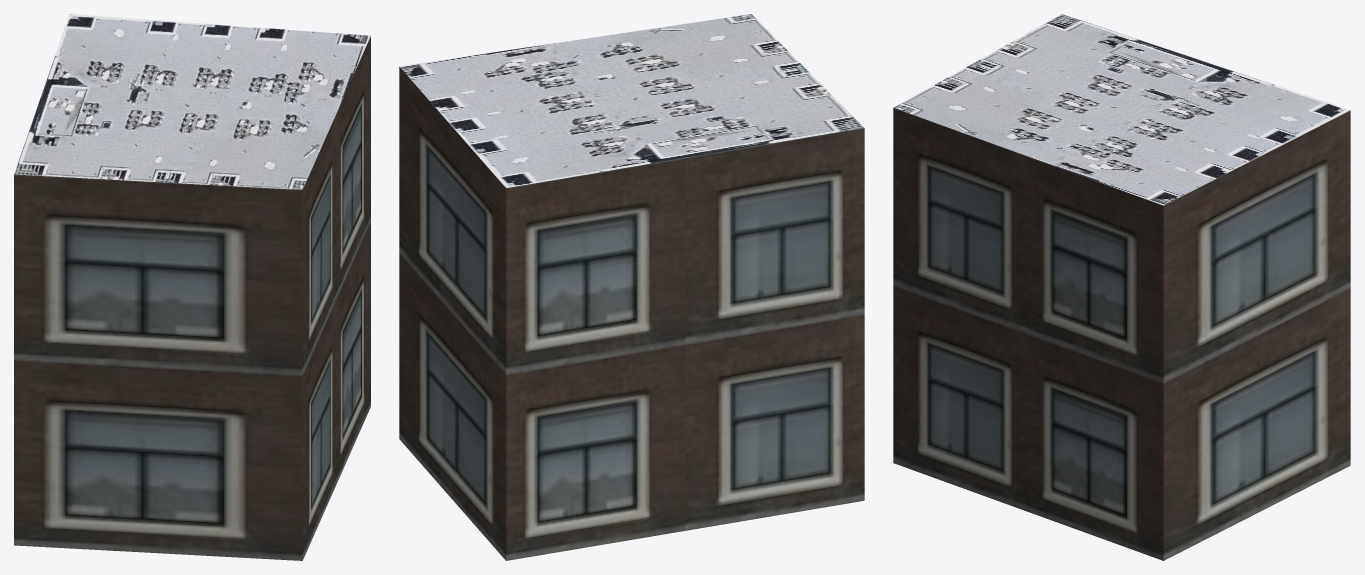
Rendered from ResTex__854.fbx.
The picture shows the model from 3 angles, left to right: view 1: azimuth 30°, elevation 25°; view 2: azimuth 150°, elevation 25°; view 3: azimuth 270°, elevation 25°; orthographic projection. The views are drawn at different scales.
Visible parts, largest first — view 1: CityEngineMaterial_16_m, CityEngineMaterial_15_m; view 2: CityEngineMaterial_16_m, CityEngineMaterial_15_m; view 3: CityEngineMaterial_16_m, CityEngineMaterial_15_m.
Part boxes in pixels (<box>): CityEngineMaterial_16_m: <box>14,36,370,560</box>; CityEngineMaterial_15_m: <box>14,14,370,189</box>; CityEngineMaterial_16_m: <box>399,66,864,560</box>; CityEngineMaterial_15_m: <box>399,14,863,187</box>; CityEngineMaterial_16_m: <box>893,108,1350,560</box>; CityEngineMaterial_15_m: <box>894,14,1349,205</box>.
Bounding box in the file's own units: 6.94 × 6 × 7.
Materials: 2 (2 with a texture image).
